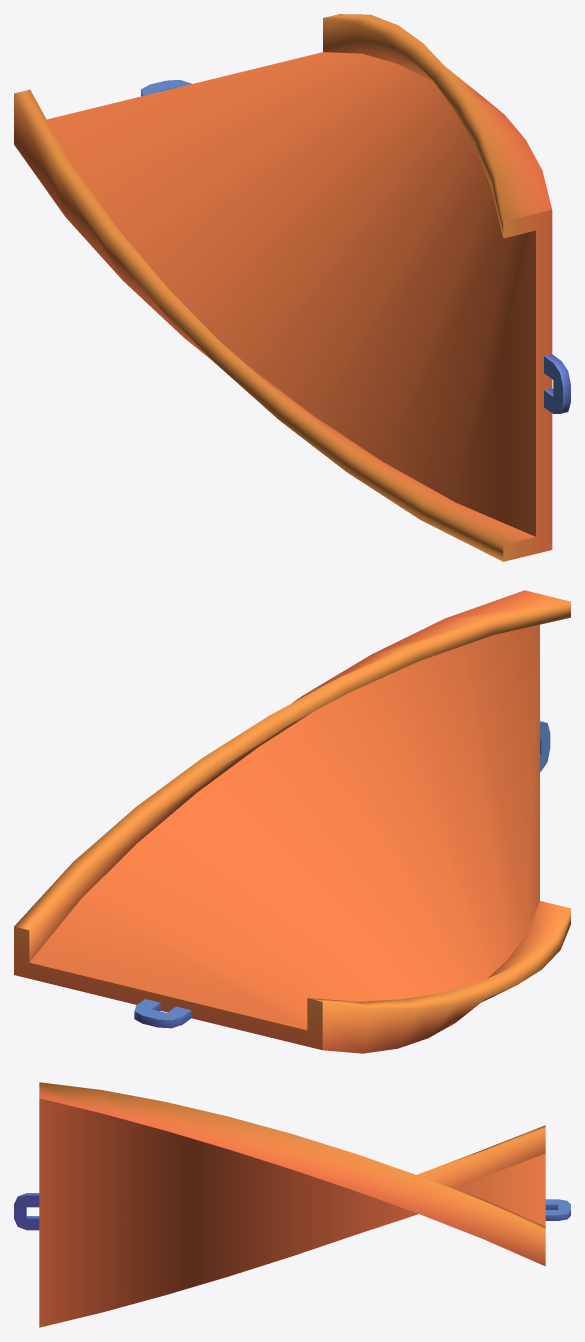
Rendered from track-wide-straight-skew-right-side.glb.
The picture shows the model from 3 angles, top to bottom: view 1: azimuth 30°, elevation 25°; view 2: azimuth 150°, elevation 25°; view 3: azimuth 270°, elevation 25°; orthographic projection. The views are drawn at different scales.
Visible parts, largest first — view 1: track-wide-straight-skew-right-side; view 2: track-wide-straight-skew-right-side; view 3: track-wide-straight-skew-right-side.
Boxes of the visible parts, x1=… form: track-wide-straight-skew-right-side: x1=14, y1=14, x2=570, y2=561; track-wide-straight-skew-right-side: x1=14, y1=590, x2=570, y2=1053; track-wide-straight-skew-right-side: x1=14, y1=1082, x2=570, y2=1327.
Size of the model in its own units: 2.04 by 2.04 by 4.4.
Materials: 1 (1 with a texture image).
